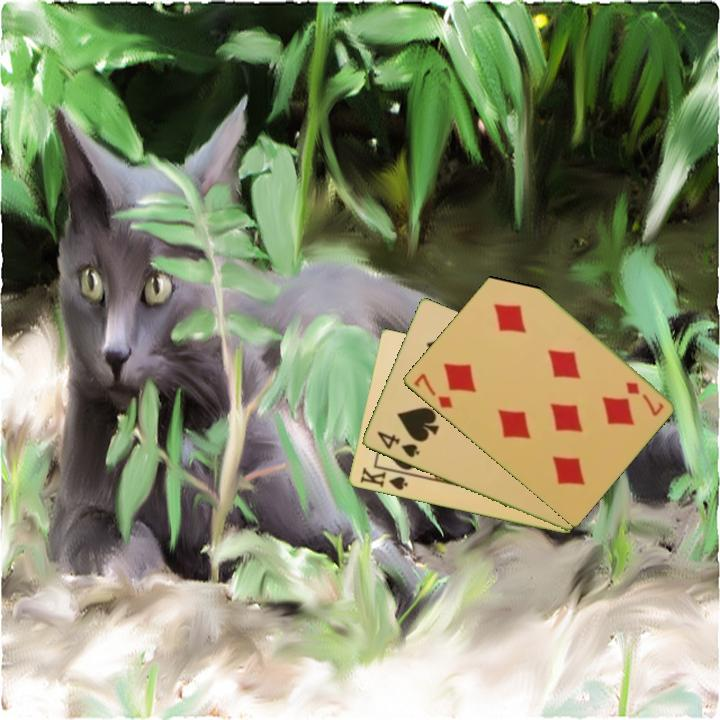4s: (373, 428, 422, 461)
7d: (410, 370, 456, 411), (622, 378, 666, 419)
Ks: (356, 464, 410, 493)
